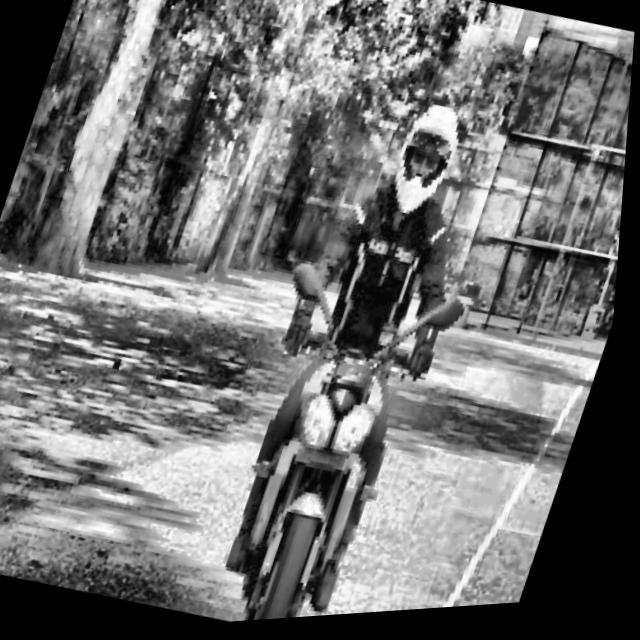motorcycle: (186, 243, 485, 628)
